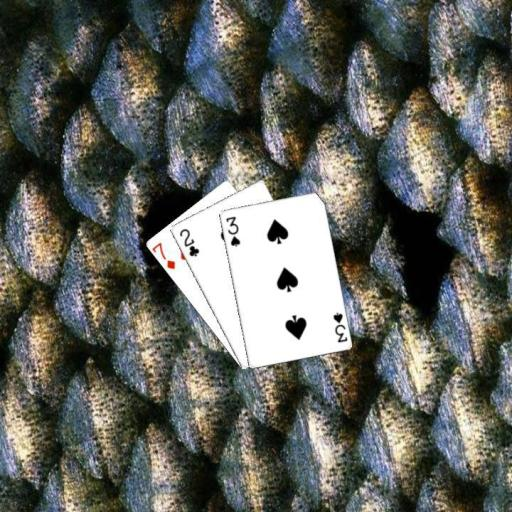2C: (176, 226, 201, 258)
3S: (330, 310, 349, 345), (223, 214, 241, 248)
7D: (150, 239, 177, 271)
